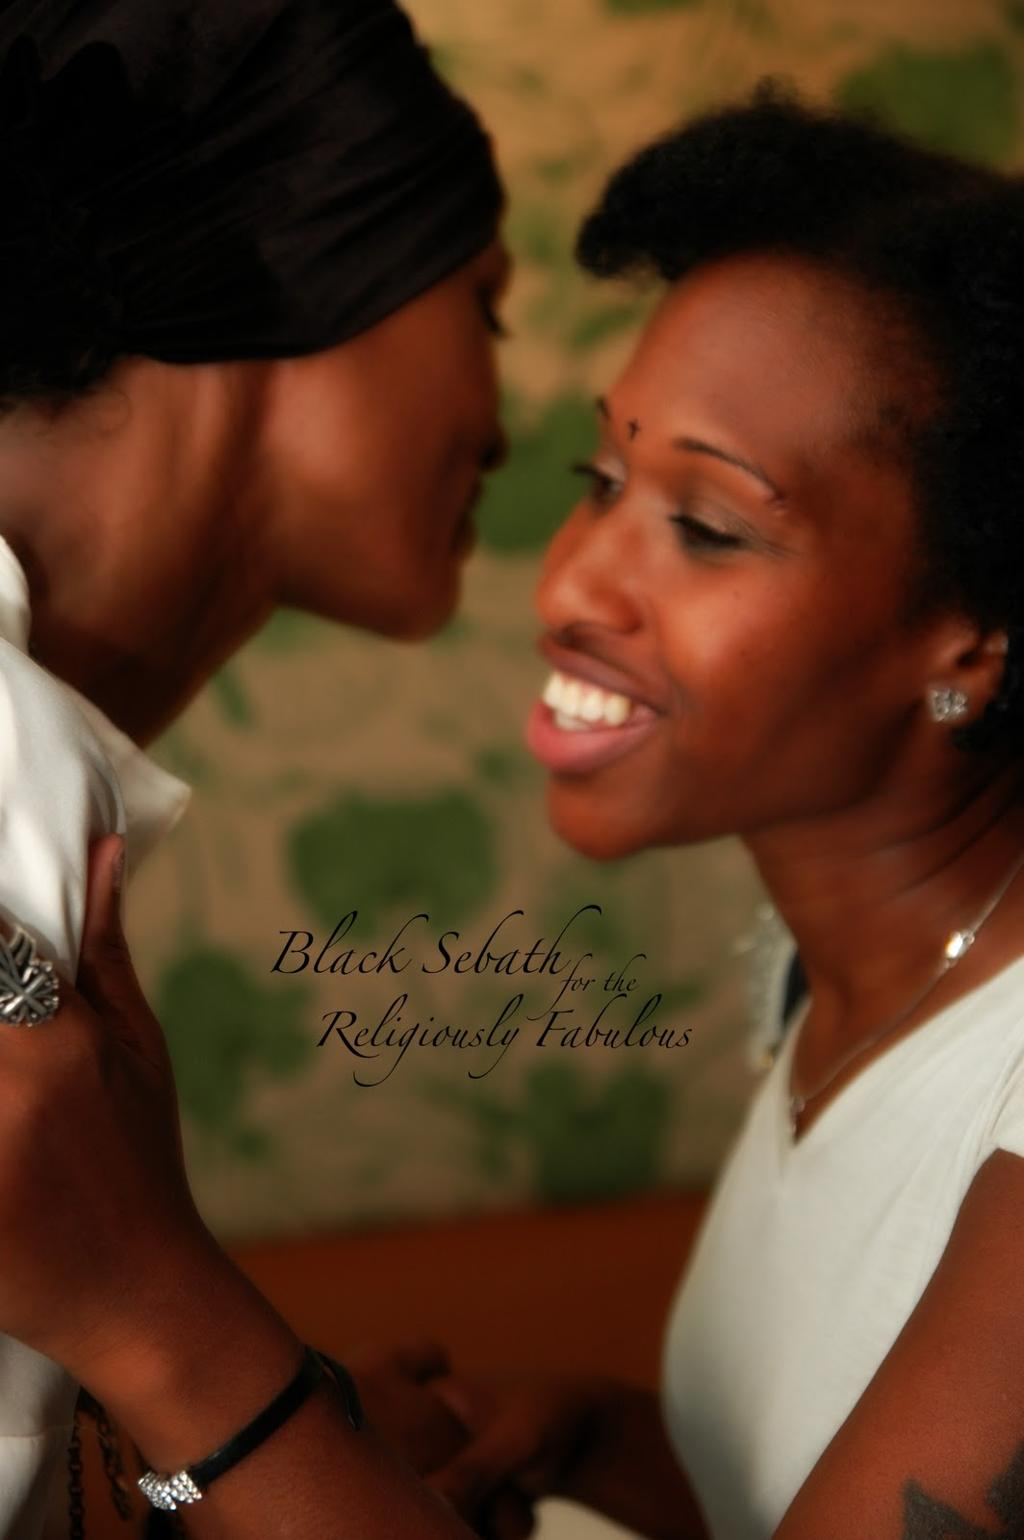face: (536, 262, 922, 849), (301, 157, 515, 633)
